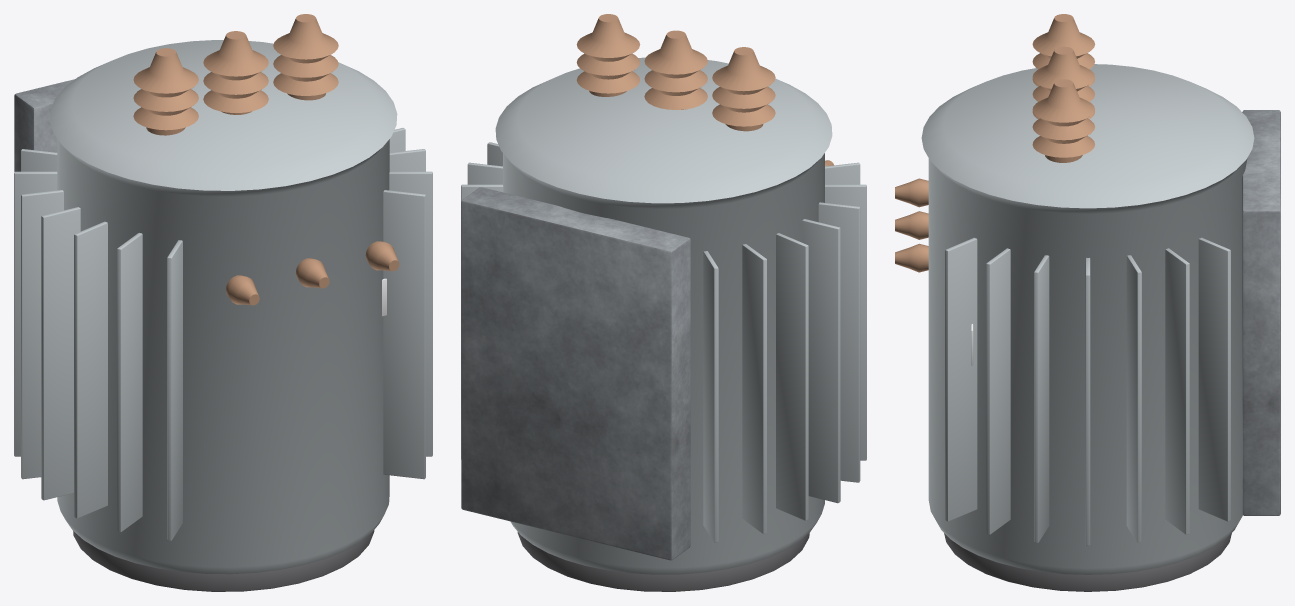
The model's file is ELE-ENT-003.glb.
The picture shows the model from 3 angles, left to right: view 1: azimuth 30°, elevation 25°; view 2: azimuth 150°, elevation 25°; view 3: azimuth 270°, elevation 25°; orthographic projection. The views are drawn at different scales.
Parts seen in each view (by area): view 1: ELE-ENT-003_tanque, ELE-ENT-003_aleta21, ELE-ENT-003_aleta13, ELE-ENT-003_aleta12, ELE-ENT-003_aleta14, ELE-ENT-003_aleta11, ELE-ENT-003_base, ELE-ENT-003_aleta15, ELE-ENT-003_buchaAT0, ELE-ENT-003_buchaAT2, ELE-ENT-003_buchaAT1, ELE-ENT-003_aleta22 (+7 smaller); view 2: ELE-ENT-003_suporte, ELE-ENT-003_tanque, ELE-ENT-003_aleta12, ELE-ENT-003_aleta11, ELE-ENT-003_aleta10, ELE-ENT-003_aleta13, ELE-ENT-003_base, ELE-ENT-003_aleta9, ELE-ENT-003_buchaAT0, ELE-ENT-003_buchaAT2, ELE-ENT-003_buchaAT1, ELE-ENT-003_aleta14 (+3 smaller); view 3: ELE-ENT-003_tanque, ELE-ENT-003_suporte, ELE-ENT-003_aleta3, ELE-ENT-003_aleta21, ELE-ENT-003_aleta2, ELE-ENT-003_aleta22, ELE-ENT-003_base, ELE-ENT-003_aleta1, ELE-ENT-003_aleta23, ELE-ENT-003_buchaAT2, ELE-ENT-003_buchaAT1, ELE-ENT-003_buchaAT0 (+4 smaller).
Boxes of the visible parts, x1,y1,x2,y2 form: ELE-ENT-003_tanque: [49, 40, 397, 574]; ELE-ENT-003_aleta21: [383, 190, 425, 479]; ELE-ENT-003_aleta13: [74, 221, 107, 518]; ELE-ENT-003_aleta12: [41, 207, 80, 500]; ELE-ENT-003_aleta14: [117, 233, 142, 532]; ELE-ENT-003_aleta11: [21, 190, 63, 479]; ELE-ENT-003_base: [73, 530, 374, 591]; ELE-ENT-003_aleta15: [167, 240, 182, 540]; ELE-ENT-003_buchaAT0: [133, 48, 198, 135]; ELE-ENT-003_buchaAT2: [273, 14, 338, 100]; ELE-ENT-003_buchaAT1: [203, 31, 268, 114]; ELE-ENT-003_aleta22: [389, 171, 432, 456]; ELE-ENT-003_suporte: [461, 187, 690, 560]; ELE-ENT-003_tanque: [495, 57, 832, 574]; ELE-ENT-003_aleta12: [802, 219, 840, 503]; ELE-ENT-003_aleta11: [776, 233, 808, 520]; ELE-ENT-003_aleta10: [742, 244, 766, 534]; ELE-ENT-003_aleta13: [818, 202, 860, 482]; ELE-ENT-003_base: [517, 532, 809, 591]; ELE-ENT-003_aleta9: [703, 251, 718, 542]; ELE-ENT-003_buchaAT0: [712, 47, 775, 131]; ELE-ENT-003_buchaAT2: [576, 14, 640, 96]; ELE-ENT-003_buchaAT1: [644, 30, 707, 109]; ELE-ENT-003_aleta14: [825, 184, 866, 460]; ELE-ENT-003_tanque: [921, 64, 1254, 574]; ELE-ENT-003_suporte: [1242, 110, 1280, 515]; ELE-ENT-003_aleta3: [1198, 237, 1230, 521]; ELE-ENT-003_aleta21: [945, 237, 977, 521]; ELE-ENT-003_aleta2: [1165, 248, 1189, 534]; ELE-ENT-003_aleta22: [986, 248, 1010, 534]; ELE-ENT-003_base: [944, 533, 1231, 591]; ELE-ENT-003_aleta1: [1126, 255, 1141, 542]; ELE-ENT-003_aleta23: [1034, 255, 1049, 542]; ELE-ENT-003_buchaAT2: [1032, 79, 1094, 162]; ELE-ENT-003_buchaAT1: [1032, 46, 1094, 119]; ELE-ENT-003_buchaAT0: [1032, 14, 1095, 86].
Bounding box in the file's own units: 0.83 × 1.1 × 0.8.
5 materials, 1 textured.
